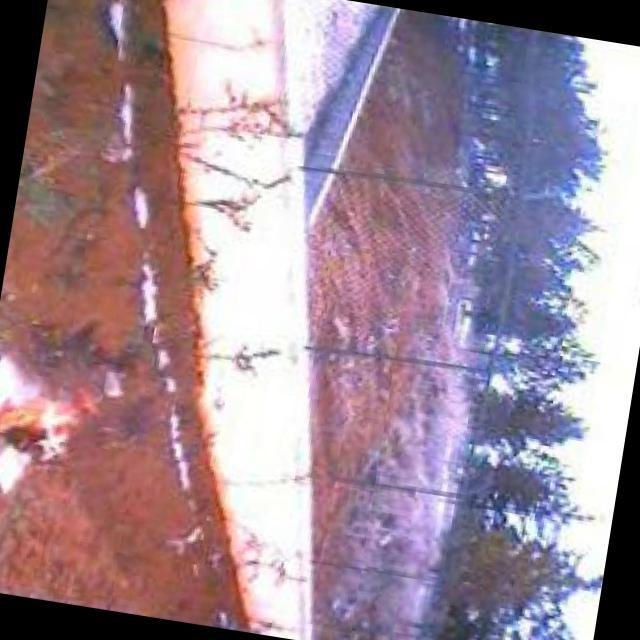Fire: (1, 368, 110, 474)
